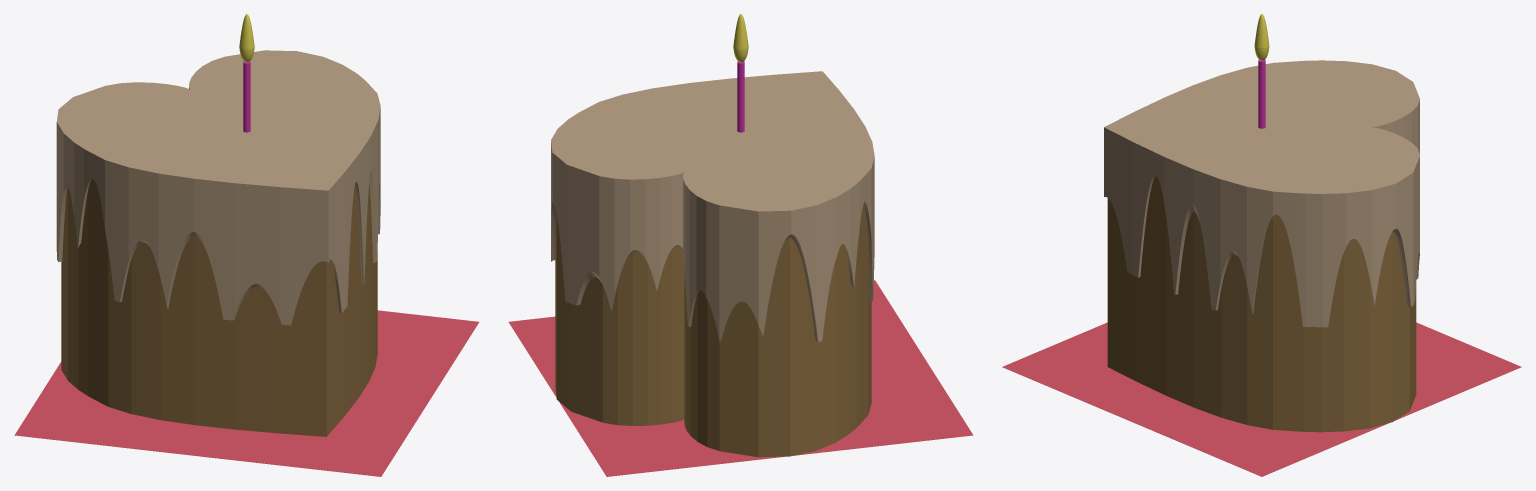
Rendered from chocolate.glb.
3 renders of one model, left to right at view 1: azimuth 30°, elevation 25°; view 2: azimuth 150°, elevation 25°; view 3: azimuth 270°, elevation 25°, orthographic. The views are drawn at different scales.
Visible parts, largest first — view 1: Mesh_Mesh_head_geo.001_lambert2SG.001; view 2: Mesh_Mesh_head_geo.001_lambert2SG.001; view 3: Mesh_Mesh_head_geo.001_lambert2SG.001.
Part boxes in pixels (x1=…): Mesh_Mesh_head_geo.001_lambert2SG.001: x1=14, y1=14, x2=479, y2=476; Mesh_Mesh_head_geo.001_lambert2SG.001: x1=508, y1=14, x2=973, y2=476; Mesh_Mesh_head_geo.001_lambert2SG.001: x1=1002, y1=14, x2=1521, y2=476.
Bounding box in the file's own units: 0.0354 × 0.0265 × 0.0354.
